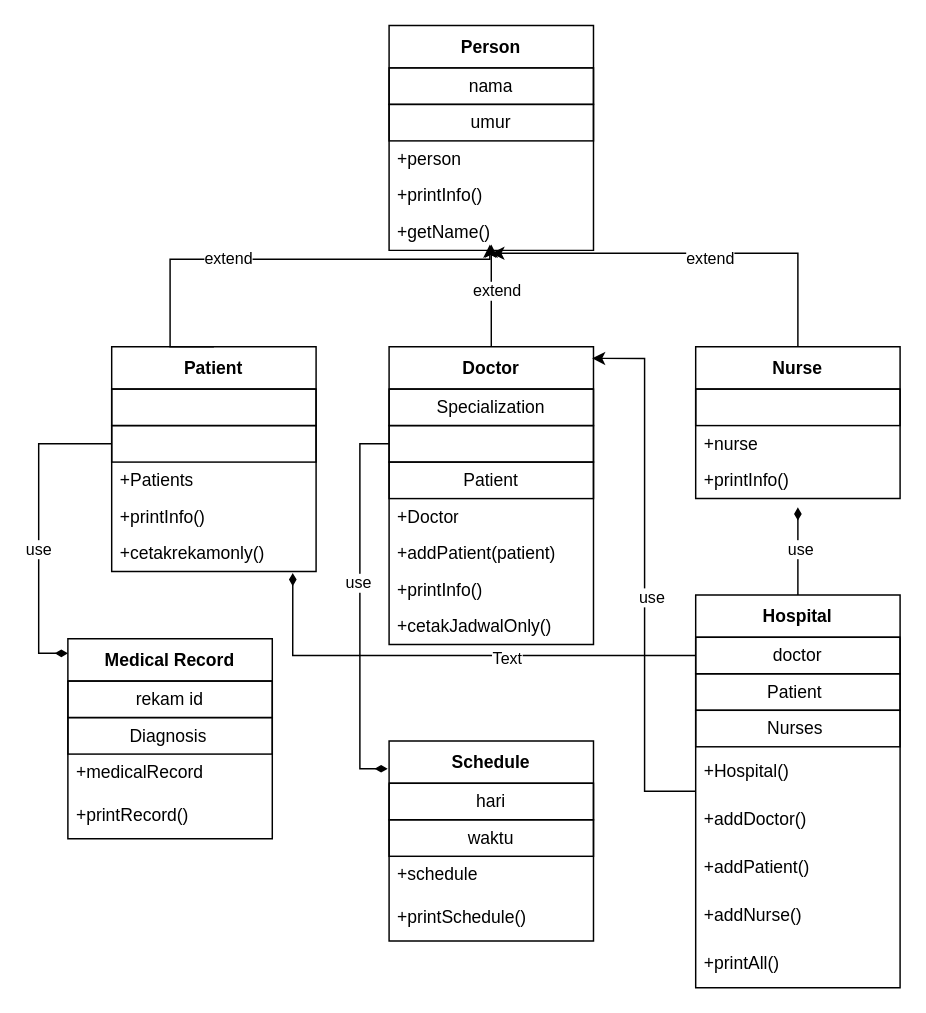
Some shapes in this 926 by 1013 pixel diagram are drawn without their labels. Each missing label, with the box of its shape:
department: (694, 388, 900, 426)
jadwal: (388, 424, 593, 462)
penyakit: (110, 388, 316, 426)
rekam: (110, 424, 316, 462)
